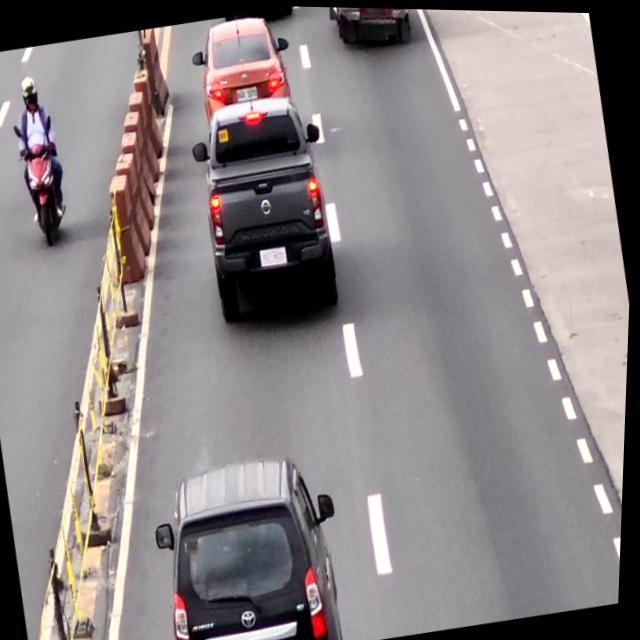Car: (145, 442, 362, 640), (180, 85, 353, 329), (185, 8, 303, 137)
Jeep: (324, 6, 414, 53)
License-Plate: (260, 244, 291, 267), (235, 84, 260, 101)
